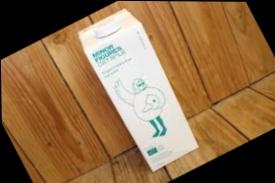cardboard: (79, 2, 208, 182), (2, 41, 132, 182)
